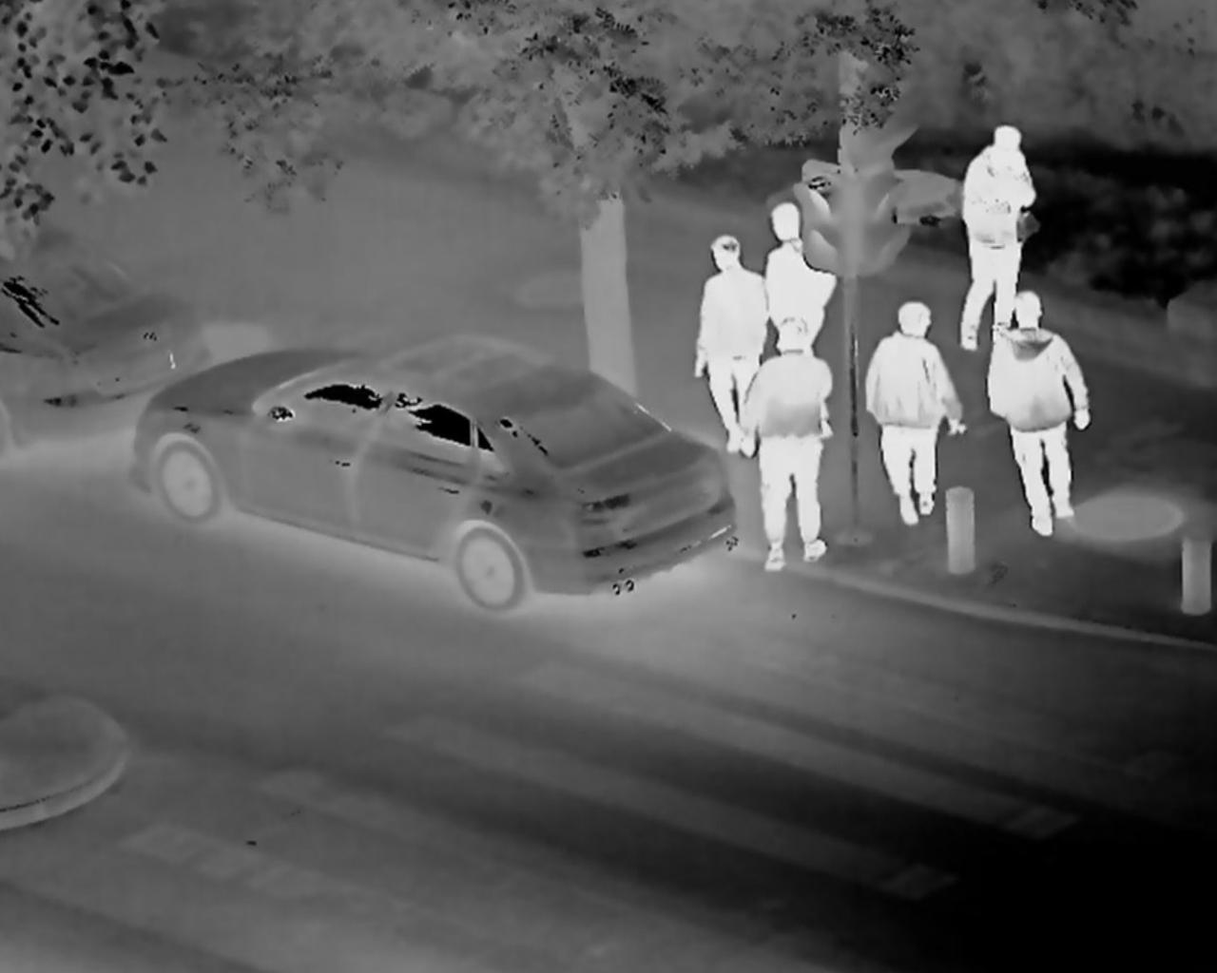person: (973, 259, 1103, 533), (738, 180, 835, 454), (747, 324, 843, 569), (871, 278, 960, 536), (952, 119, 1042, 360), (681, 216, 762, 460)
